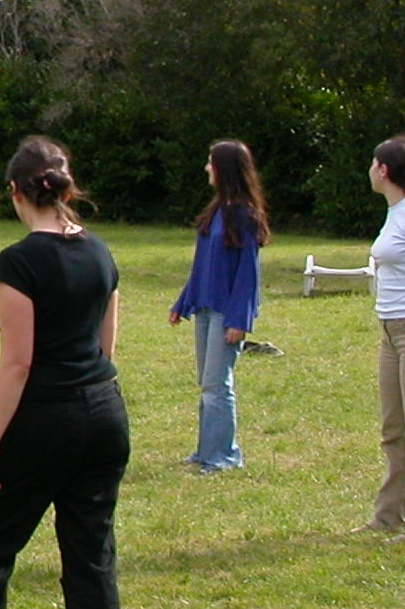person: (169, 139, 262, 476)
